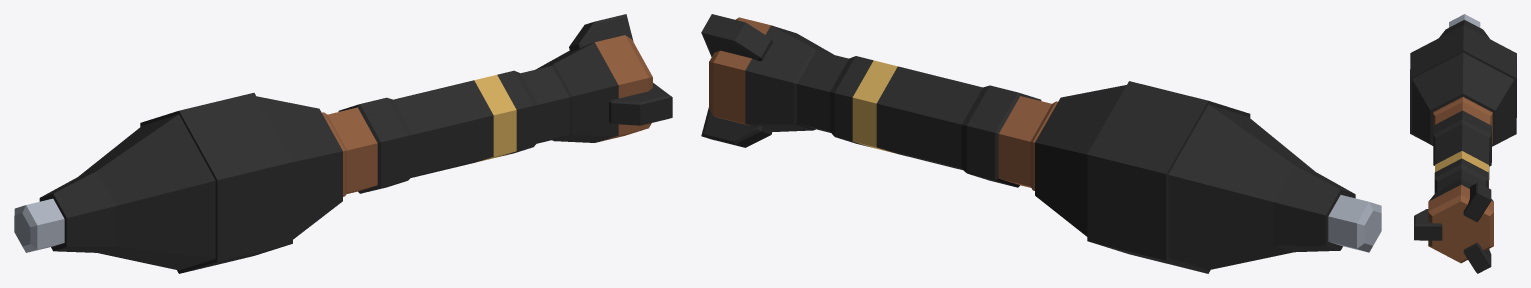
The model's file is missile_bullet.glb.
The picture shows the model from 3 angles, left to right: view 1: azimuth 30°, elevation 25°; view 2: azimuth 150°, elevation 25°; view 3: azimuth 270°, elevation 25°; orthographic projection. The views are drawn at different scales.
Parts seen in each view (by area): view 1: Cylinder_BlackMetal_0.001; view 2: Cylinder_BlackMetal_0.001; view 3: Cylinder_BlackMetal_0.001.
Boxes of the visible parts, bbox=[...] form: Cylinder_BlackMetal_0.001: bbox=[14, 14, 672, 273]; Cylinder_BlackMetal_0.001: bbox=[701, 14, 1381, 273]; Cylinder_BlackMetal_0.001: bbox=[1410, 14, 1516, 273].
Size of the model in its own units: 3.01 by 0.7644 by 0.6647.
